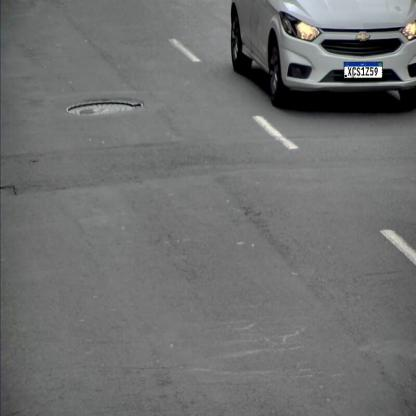PlacaM: (344, 62, 382, 78)
